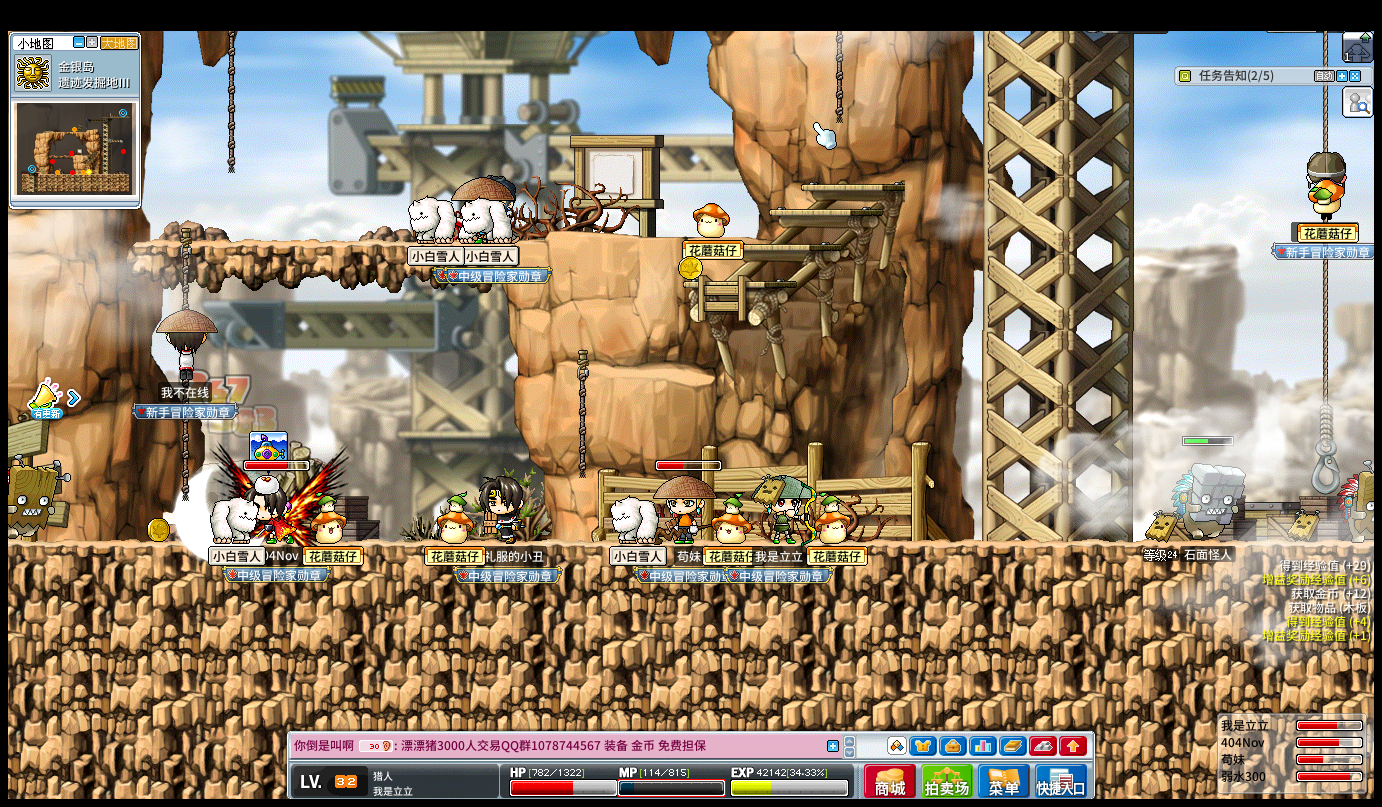floor: (133, 239, 503, 248), (607, 364, 716, 384), (676, 279, 794, 287), (765, 207, 877, 214), (736, 243, 839, 250), (801, 184, 903, 191)
monster: (5, 454, 71, 541), (1171, 464, 1244, 541), (1334, 464, 1381, 543)
rope: (575, 349, 588, 482), (1319, 259, 1328, 410), (227, 28, 236, 171), (179, 226, 190, 307), (833, 30, 841, 123), (1321, 29, 1327, 152), (178, 420, 187, 501), (1317, 405, 1331, 450)
